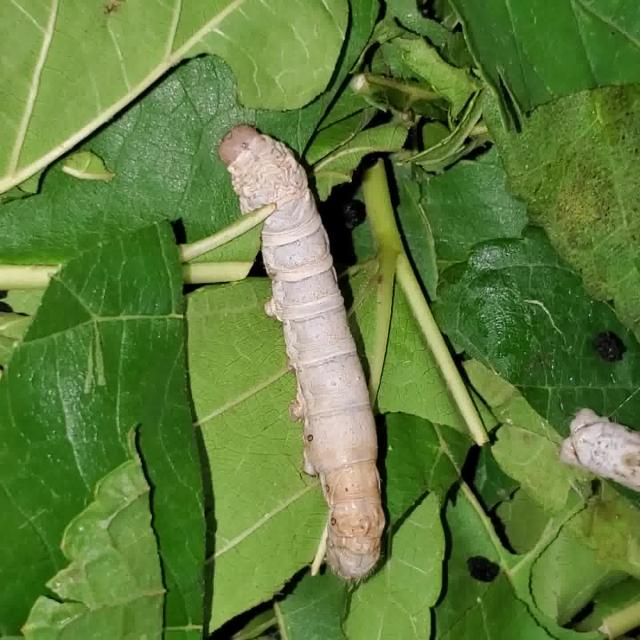Grasserie: (174, 92, 454, 592)
